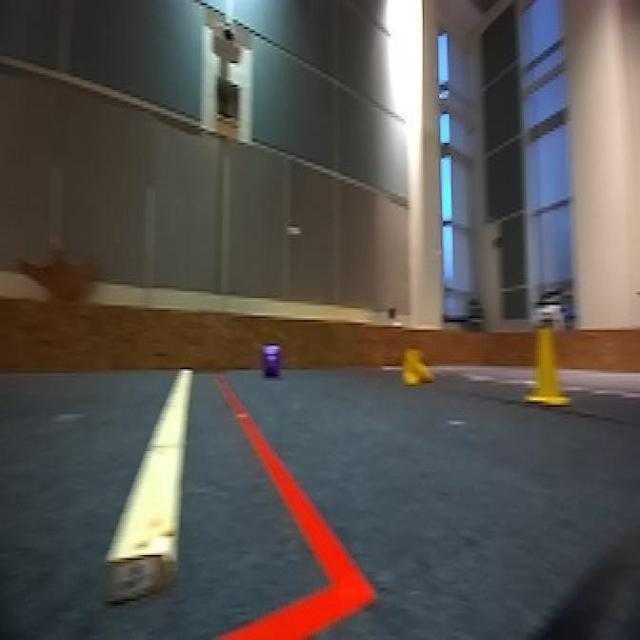frc_cone: (522, 322, 569, 408), (398, 346, 436, 388)
frc_cube: (261, 346, 281, 380)
